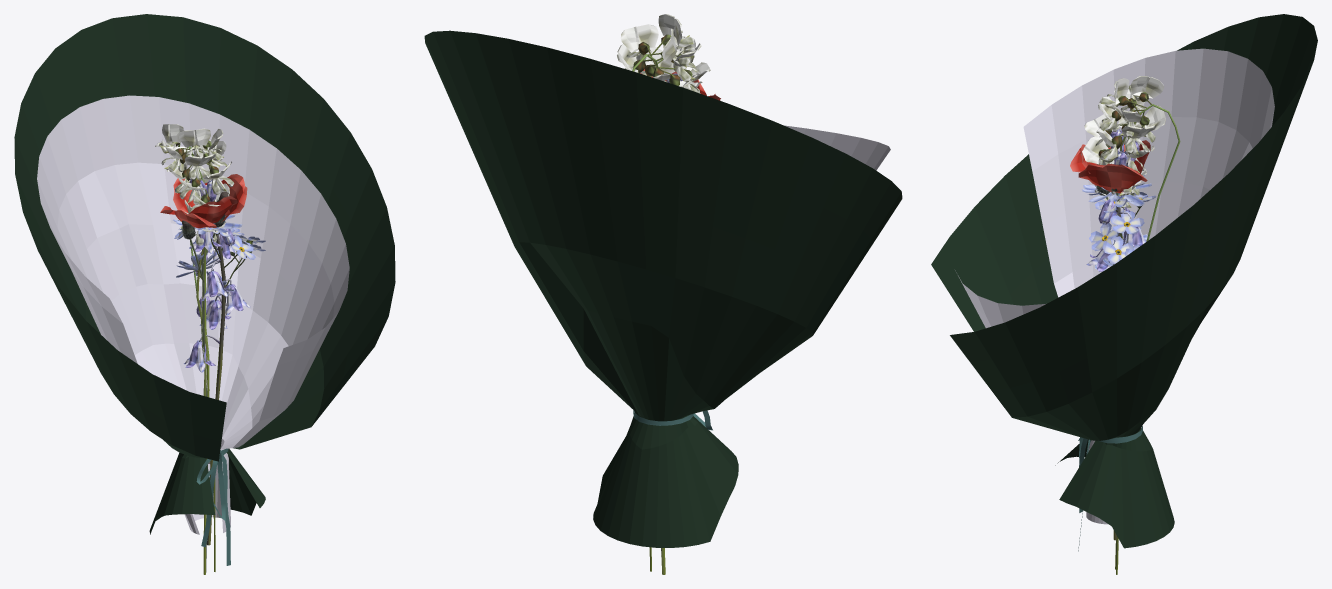
The model's file is flower_06_2.glb.
3 views of the same model, side by side, from view 1: azimuth 30°, elevation 25°; view 2: azimuth 150°, elevation 25°; view 3: azimuth 270°, elevation 25° (orthographic). The views are drawn at different scales.
Parts seen in each view (by area): view 1: wrap_inner, wrap_outer, bow, stem.019, petal.182, petal.183, petal1.015; view 2: wrap_outer, wrap_inner, petal1.013; view 3: wrap_outer, wrap_inner, petal.183, petal1.016.
Part boxes in pixels (x1,y1,x2,y2): wrap_inner: (37,95,349,534); wrap_outer: (14,14,395,534); bow: (196,450,230,565); stem.019: (207,234,225,545); petal.182: (189,196,237,223); petal.183: (221,174,247,221); petal1.015: (178,128,210,147); wrap_outer: (424,30,902,547); wrap_inner: (784,125,890,170); petal1.013: (620,24,658,52); wrap_outer: (931,14,1317,548); wrap_inner: (955,48,1274,524); petal.183: (1078,163,1147,193); petal1.016: (1130,76,1164,98).
Size of the model in its own units: 0.24 by 0.3349 by 0.222.
